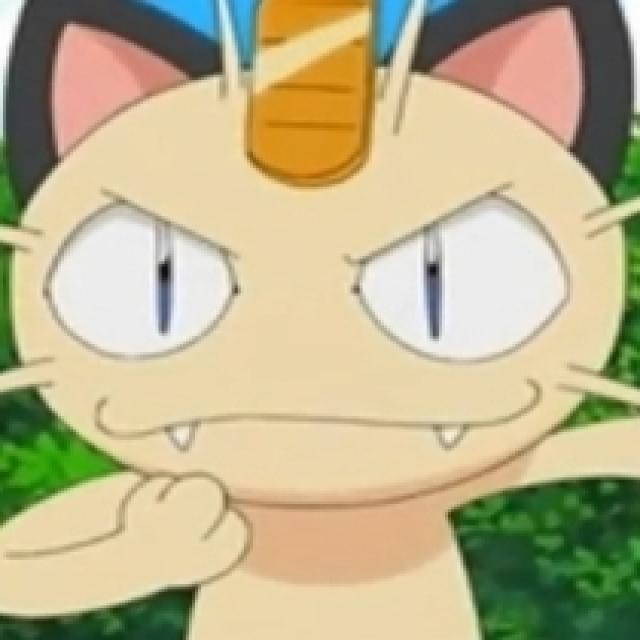Meowth: (0, 0, 634, 640)
